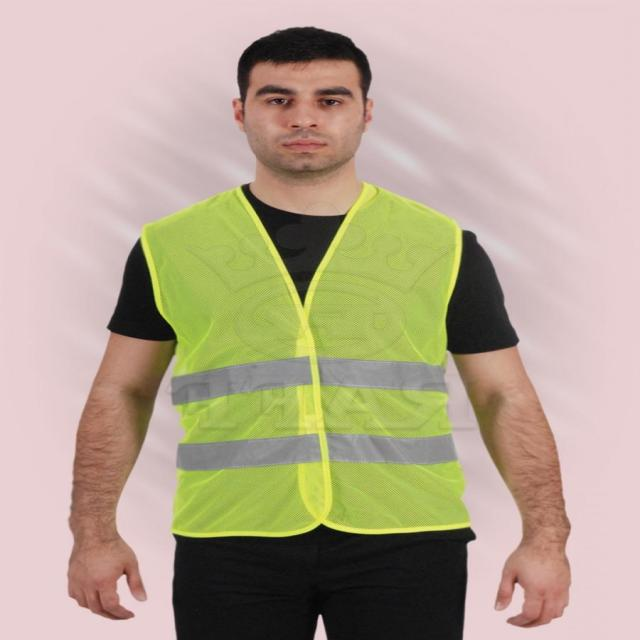Reflective-Jacket: (136, 185, 479, 540)
